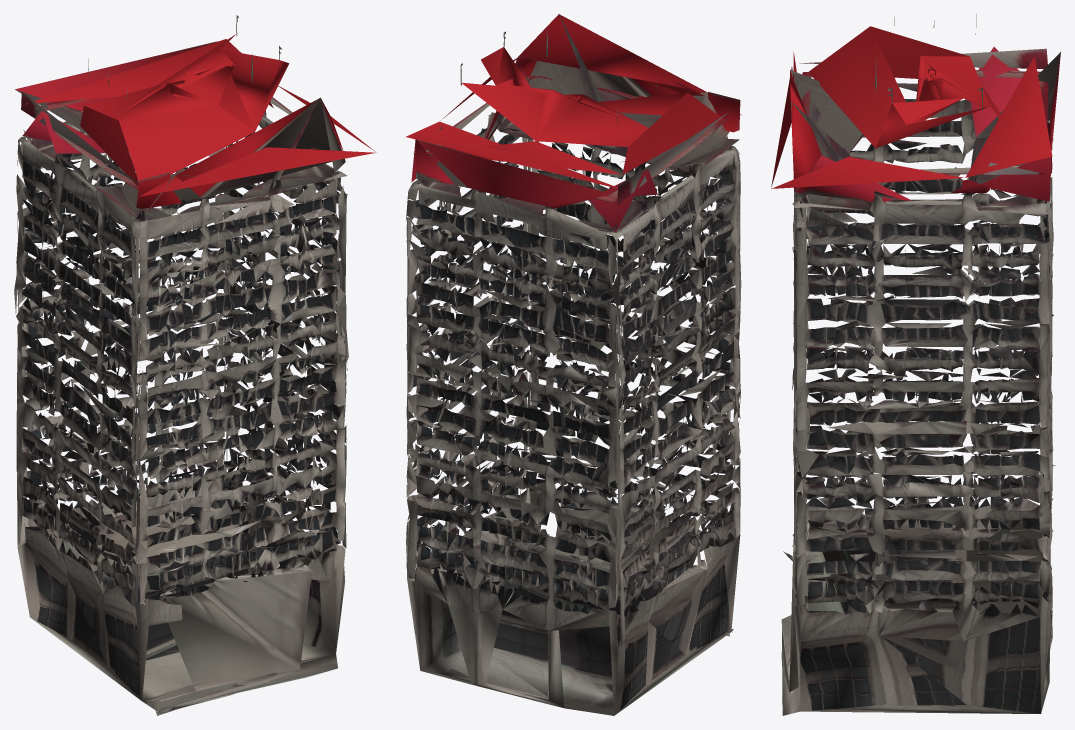
The model's file is JHB_CBDTower_LOD1.fbx.
3 renders of one model, left to right at view 1: azimuth 30°, elevation 25°; view 2: azimuth 150°, elevation 25°; view 3: azimuth 270°, elevation 25°, orthographic. The views are drawn at different scales.
Parts seen in each view (by area): view 1: JHB_CBDTower_Windows_LOD1, JHB_CBDTower_Shell_LOD1, JHB_CBDTower_GroundFloor_LOD1, JHB_CBDTower_BlankRedBand_LOD1, JHB_CBDTower_Entrance_LOD1; view 2: JHB_CBDTower_Windows_LOD1, JHB_CBDTower_Shell_LOD1, JHB_CBDTower_GroundFloor_LOD1, JHB_CBDTower_BlankRedBand_LOD1, JHB_CBDTower_Entrance_LOD1; view 3: JHB_CBDTower_Windows_LOD1, JHB_CBDTower_GroundFloor_LOD1, JHB_CBDTower_Shell_LOD1, JHB_CBDTower_BlankRedBand_LOD1, JHB_CBDTower_Entrance_LOD1.
Part boxes in pixels (x1,y1,x2,y2): JHB_CBDTower_Windows_LOD1: (16, 97, 348, 605); JHB_CBDTower_Shell_LOD1: (14, 41, 347, 598); JHB_CBDTower_GroundFloor_LOD1: (17, 432, 345, 710); JHB_CBDTower_BlankRedBand_LOD1: (25, 34, 376, 196); JHB_CBDTower_Entrance_LOD1: (155, 559, 311, 715); JHB_CBDTower_Windows_LOD1: (406, 75, 741, 646); JHB_CBDTower_Shell_LOD1: (406, 14, 740, 596); JHB_CBDTower_GroundFloor_LOD1: (406, 476, 740, 715); JHB_CBDTower_BlankRedBand_LOD1: (406, 47, 741, 190); JHB_CBDTower_Entrance_LOD1: (555, 487, 732, 636); JHB_CBDTower_Windows_LOD1: (792, 52, 1055, 616); JHB_CBDTower_GroundFloor_LOD1: (781, 493, 1052, 715); JHB_CBDTower_Shell_LOD1: (790, 47, 1060, 592); JHB_CBDTower_BlankRedBand_LOD1: (771, 26, 1052, 188); JHB_CBDTower_Entrance_LOD1: (781, 518, 844, 693).
Bounding box in the file's own units: 14.13 × 34 × 13.95.
Materials: 2 (1 with a texture image).
